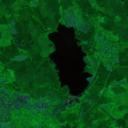alloviz: (46, 21, 94, 97)
